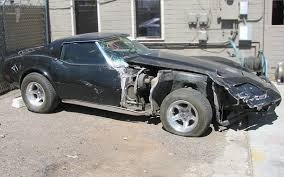Broken-glass: (99, 38, 150, 59)
Dent: (79, 80, 106, 97), (11, 63, 24, 74)
Smashed: (123, 59, 275, 125)
